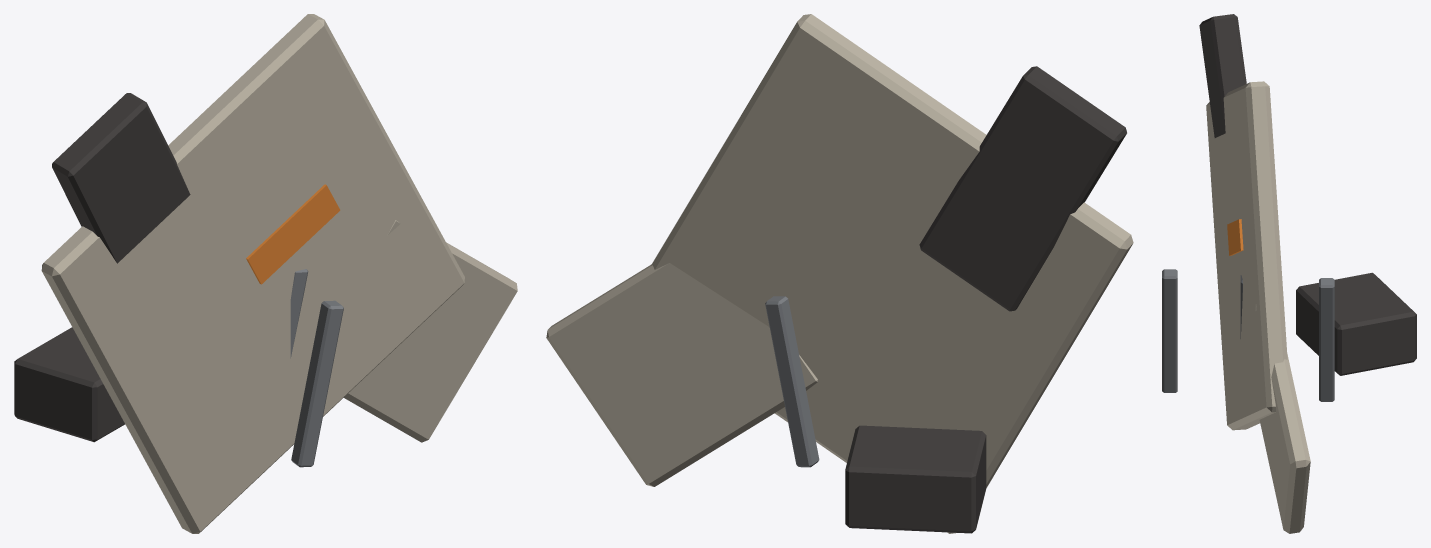
The model's file is TC_ENV_CrashDebris_A_V1.gltf.
3 renders of one model, left to right at view 1: azimuth 30°, elevation 25°; view 2: azimuth 150°, elevation 25°; view 3: azimuth 270°, elevation 25°, orthographic. The views are drawn at different scales.
Parts seen in each view (by area): view 1: TC_Debris_PlateMain, TC_Debris_PlateBent, TC_Debris_EdgeScorch, TC_Debris_Chunk, TC_Debris_Rib_0, TC_Debris_Marking, TC_Debris_Rib_1; view 2: TC_Debris_PlateMain, TC_Debris_PlateBent, TC_Debris_EdgeScorch, TC_Debris_Chunk, TC_Debris_Rib_2; view 3: TC_Debris_PlateMain, TC_Debris_Chunk, TC_Debris_PlateBent, TC_Debris_EdgeScorch, TC_Debris_Rib_2, TC_Debris_Rib_0, TC_Debris_Marking.
Part boxes in pixels (x1,y1,x2,y2): TC_Debris_PlateMain: [41, 14, 464, 533]; TC_Debris_PlateBent: [343, 220, 517, 442]; TC_Debris_EdgeScorch: [52, 93, 190, 263]; TC_Debris_Chunk: [14, 327, 124, 442]; TC_Debris_Rib_0: [291, 300, 343, 467]; TC_Debris_Marking: [246, 184, 340, 284]; TC_Debris_Rib_1: [290, 269, 308, 358]; TC_Debris_PlateMain: [651, 14, 1133, 533]; TC_Debris_PlateBent: [546, 263, 817, 486]; TC_Debris_EdgeScorch: [919, 66, 1126, 311]; TC_Debris_Chunk: [845, 425, 986, 533]; TC_Debris_Rib_2: [765, 296, 819, 467]; TC_Debris_PlateMain: [1206, 81, 1287, 430]; TC_Debris_Chunk: [1296, 272, 1416, 375]; TC_Debris_PlateBent: [1255, 304, 1310, 533]; TC_Debris_EdgeScorch: [1199, 14, 1246, 137]; TC_Debris_Rib_2: [1319, 278, 1334, 401]; TC_Debris_Rib_0: [1162, 269, 1177, 392]; TC_Debris_Marking: [1227, 219, 1243, 255].
Size of the model in its own units: 2.9 by 2.54 by 1.46.
